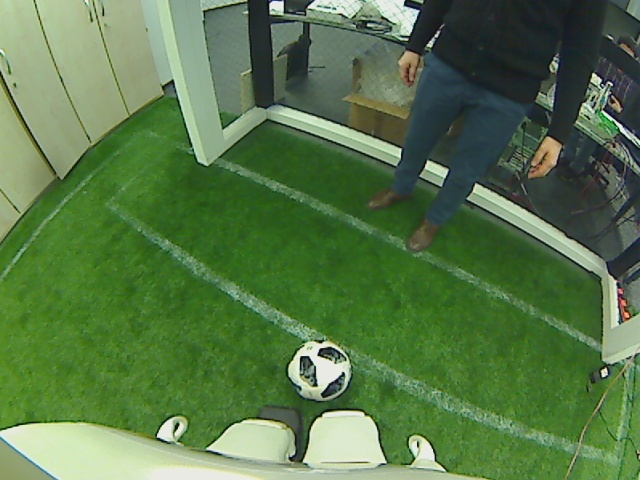ball: (284, 337, 353, 403)
